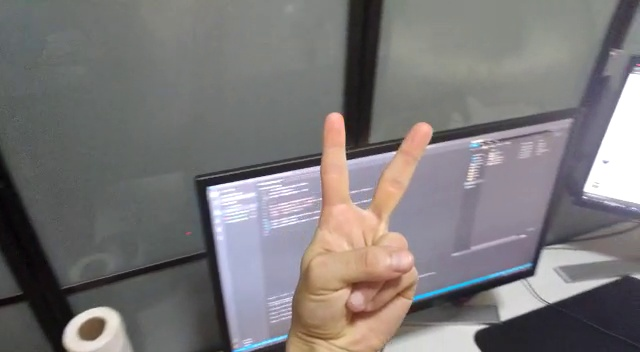Peace: (280, 109, 439, 351)
